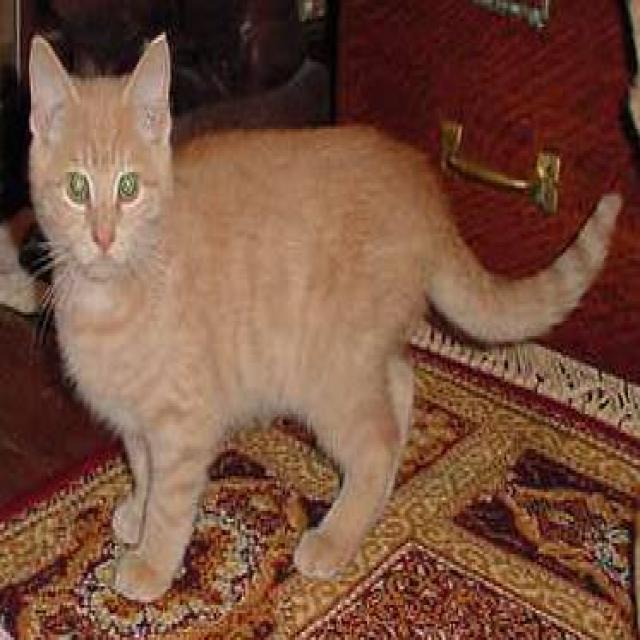cat: (24, 27, 623, 602)
